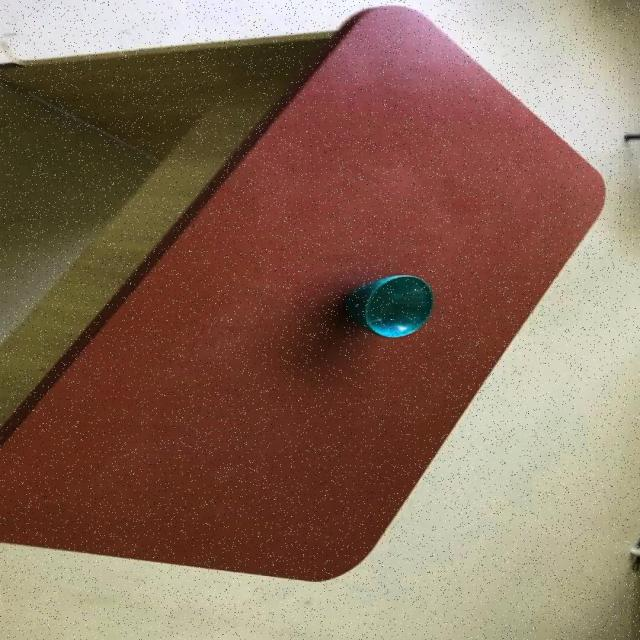Bowl: (0, 3, 606, 581), (343, 274, 433, 338)
